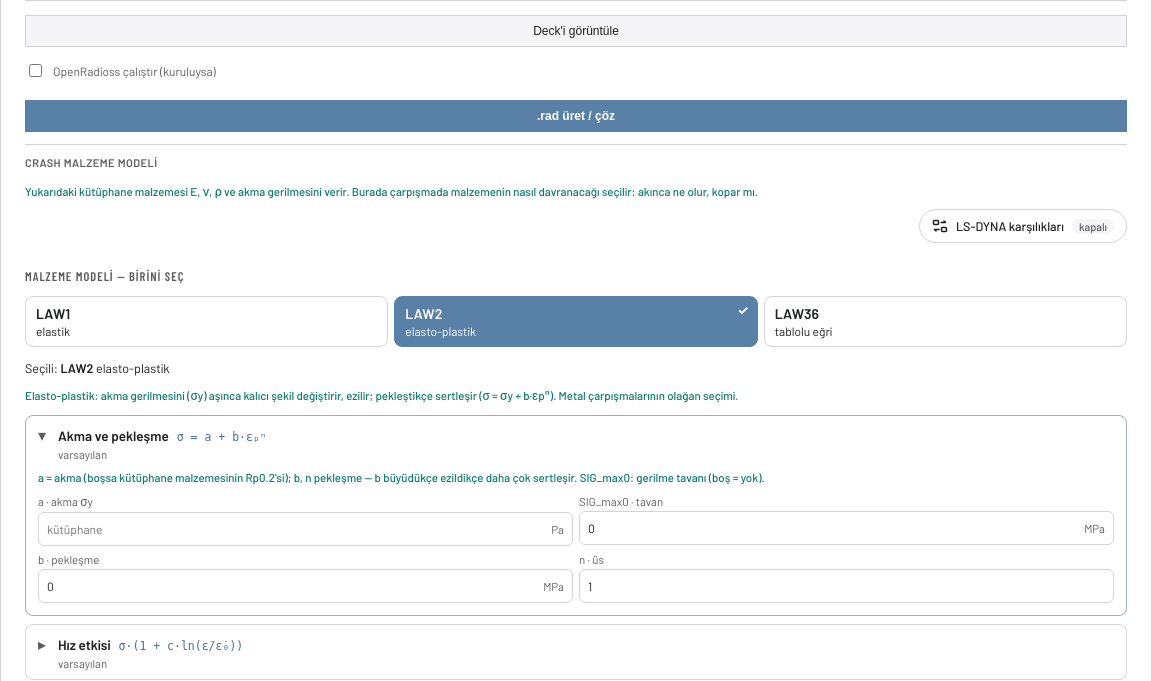
Test: CrashPanel › 1.14e: geçersiz eğri gönderilmez, hata alan adıyla gösterilir
The width and height of the screenshot is (1152, 681).
(page scrolled)
Click the button "LAW36 tablolu eğri": {"x": 797, "y": 314} x1=764 y1=296 x2=1127 y2=347
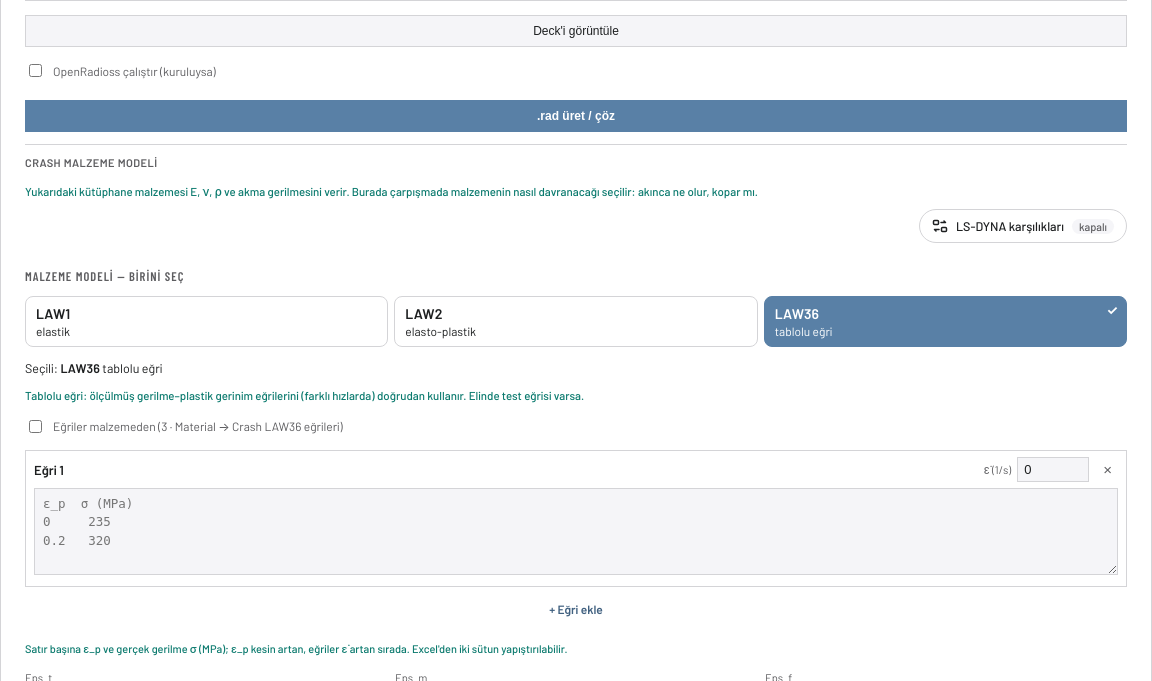
In the text box named "Eğri 1 noktaları": {"x": 576, "y": 532} x1=34 y1=488 x2=1118 y2=575, type "0 235 9"
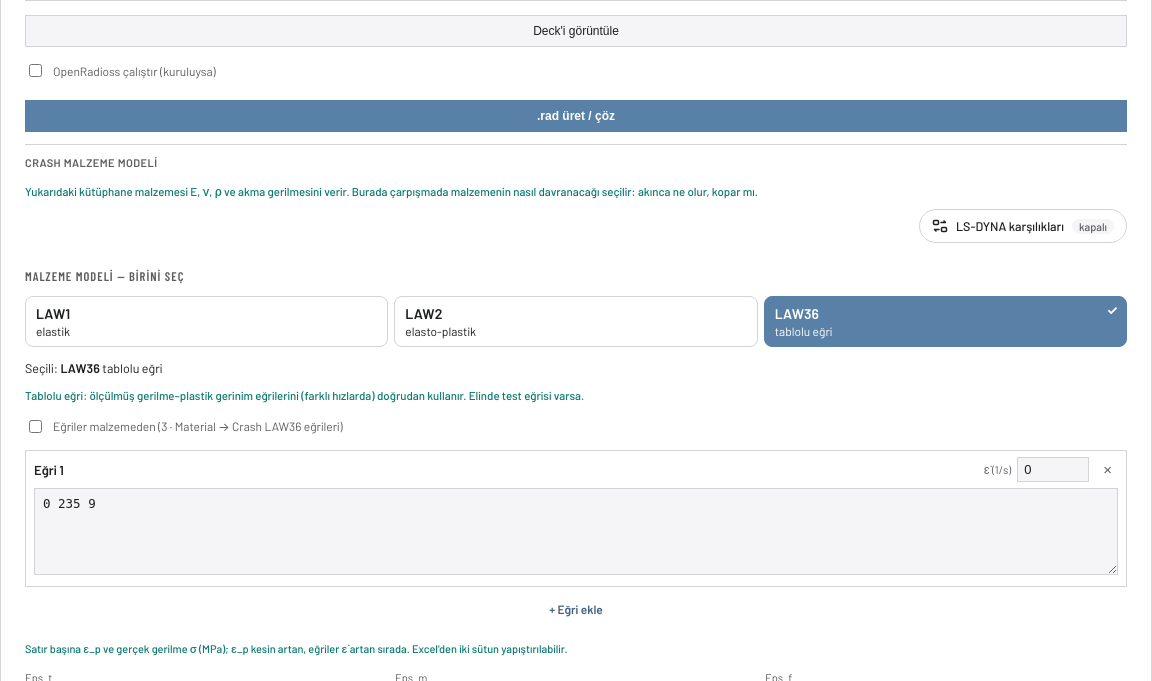
Click the button ".rad üret / çöz": {"x": 576, "y": 116} x1=25 y1=100 x2=1127 y2=132
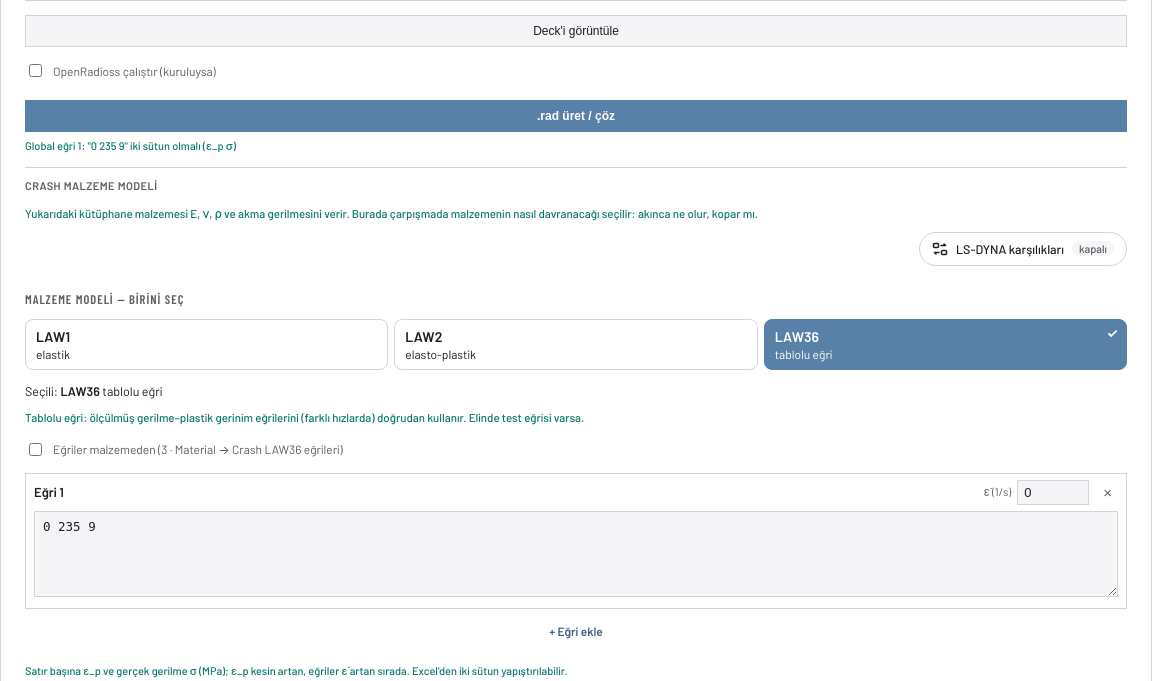
Expected: the text "Global eğri 1: \"0 235 9\" iki sütun olmalı (ε_p σ)" is shown, x1=25 y1=139 x2=236 y2=152
